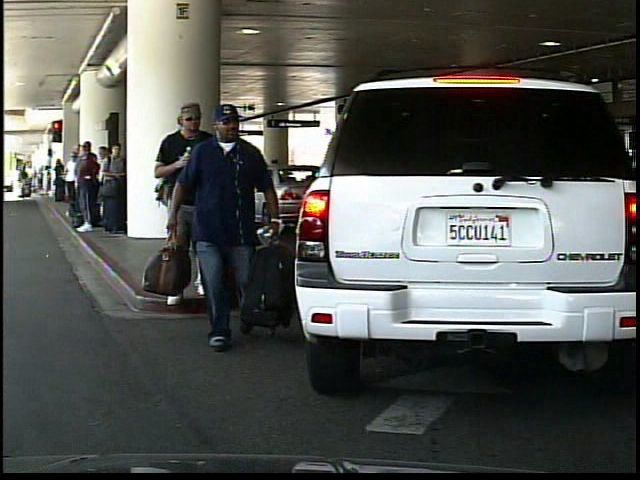person: (167, 102, 285, 354), (156, 97, 225, 295), (188, 134, 234, 254)
